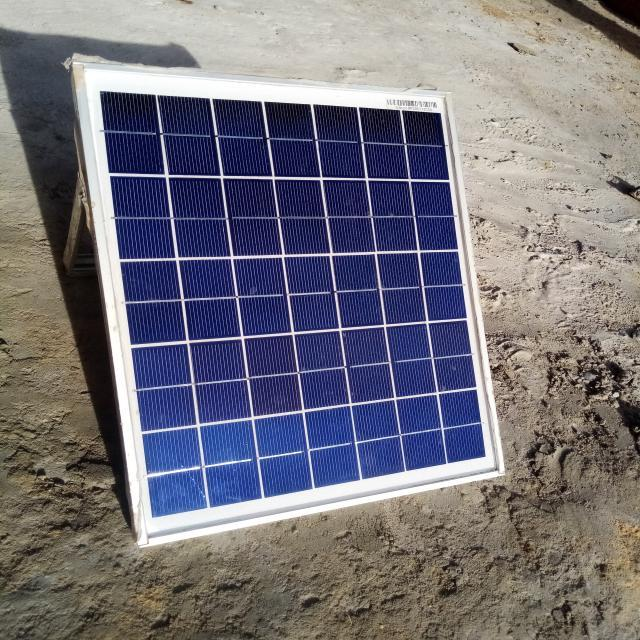no faulty: (78, 62, 509, 545)
